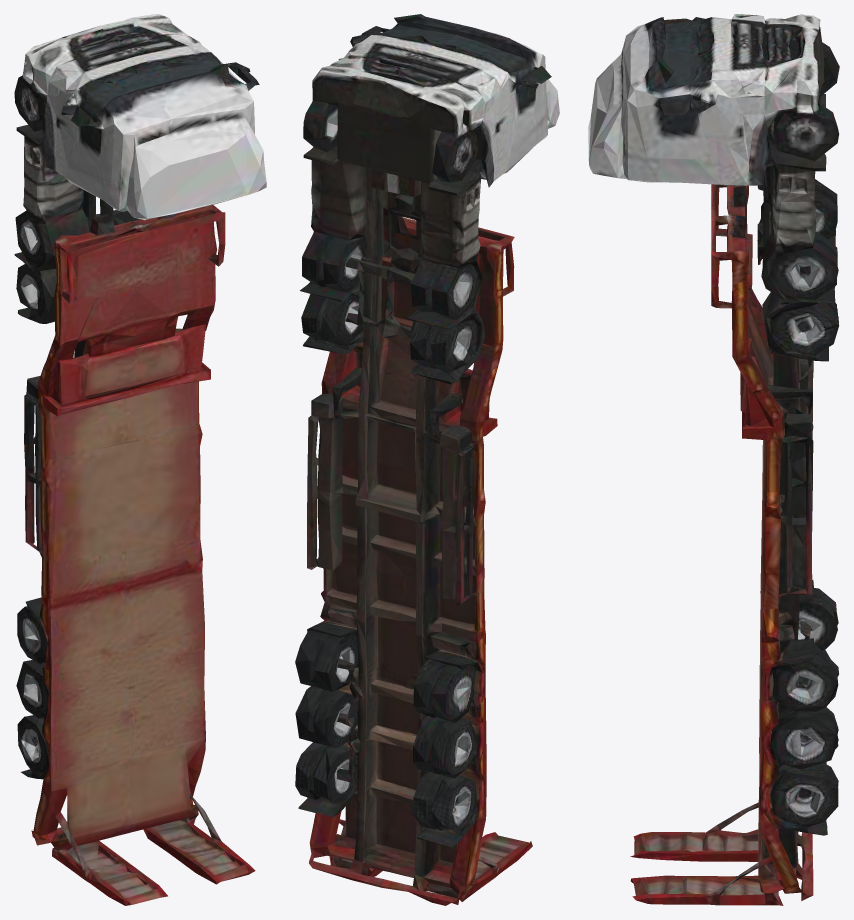
The model's file is carreta_cavalo.glb.
The picture shows the model from 3 angles, left to right: view 1: azimuth 30°, elevation 25°; view 2: azimuth 150°, elevation 25°; view 3: azimuth 270°, elevation 25°; orthographic projection. The views are drawn at different scales.
Visible parts, largest first — view 1: n0; view 2: n0; view 3: n0.
Boxes of the visible parts, box(x1,y1,x2,y2) form: n0: box(14, 14, 266, 905); n0: box(295, 14, 559, 905); n0: box(588, 14, 839, 905).
Bounding box in the file's own units: 4.49 × 18.5 × 5.07.
Materials: 1 (1 with a texture image).
